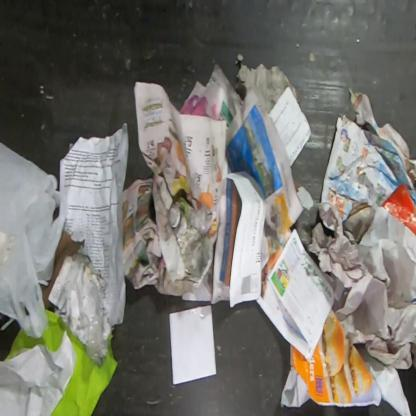cardboard: (380, 181, 415, 238)
soft_plastic: (280, 306, 412, 416), (0, 141, 69, 340), (87, 312, 104, 367)
